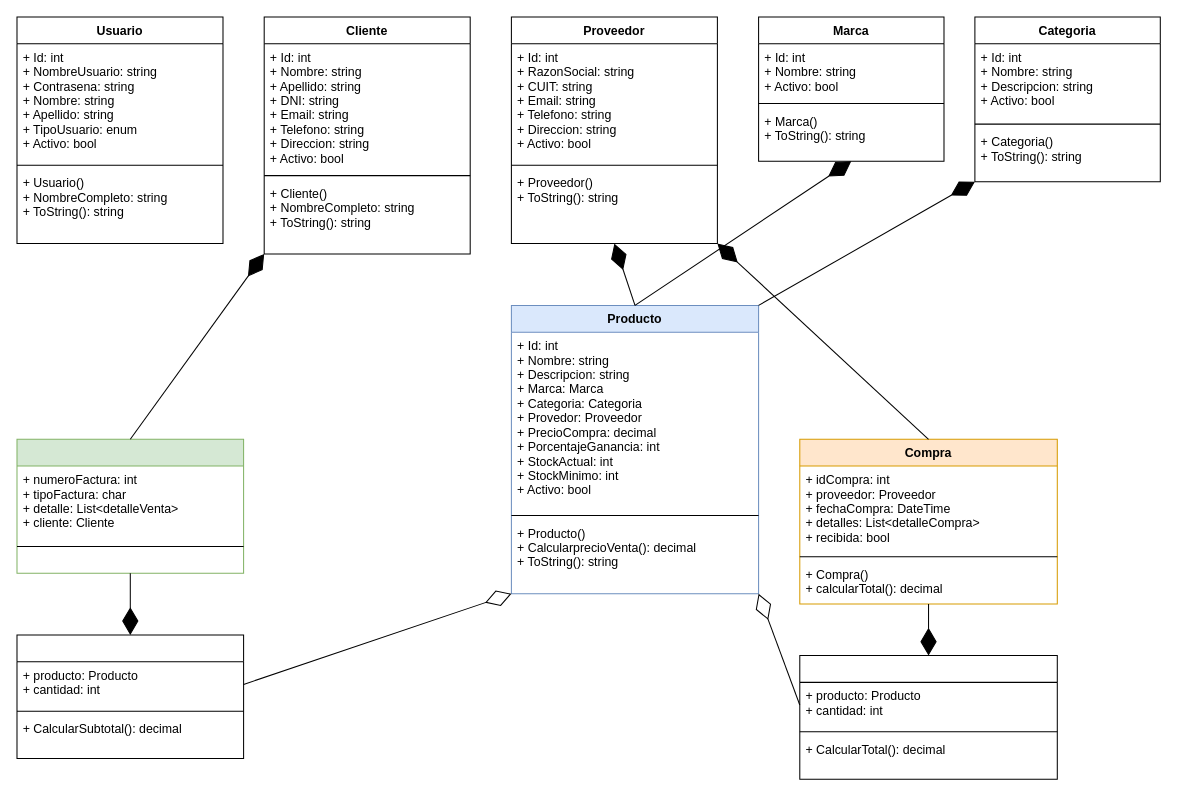
This 1177x796 diagram has some shape labels left out. Here are the shapes that lost their labels. From the top down, the box of each, then its label:
(16, 438, 244, 573): Venta
(16, 634, 244, 759): detalleVenta
(799, 655, 1057, 779): detalleCompra
